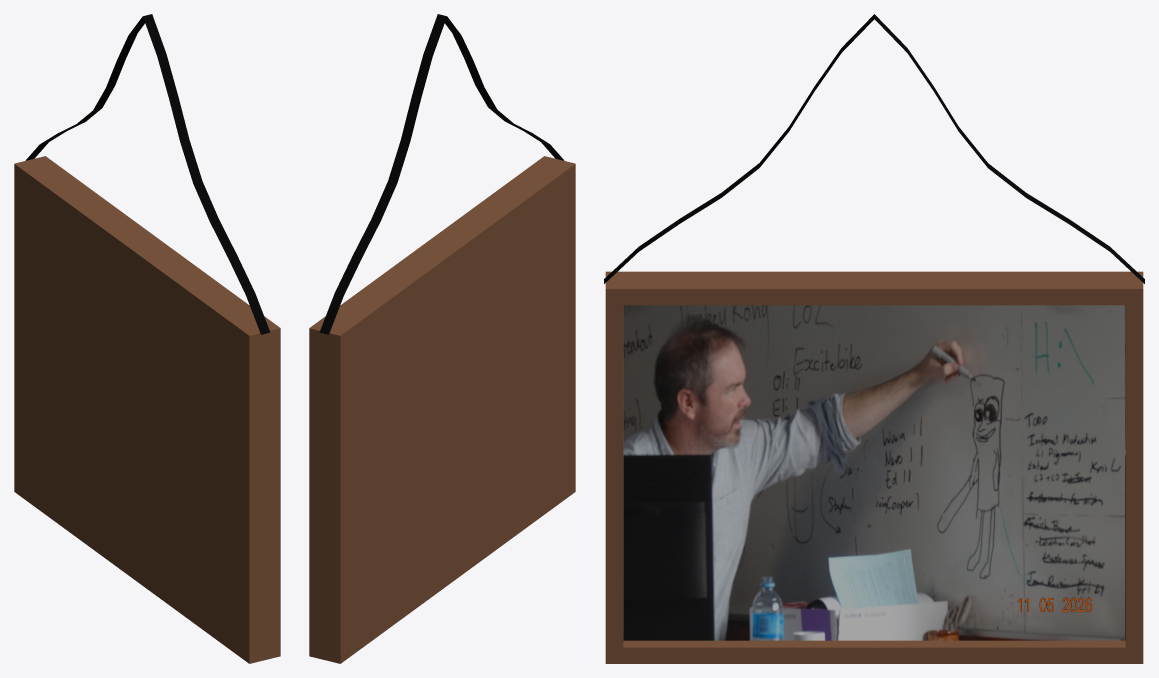
Rendered from paintingSmith.glb.
The picture shows the model from 3 angles, left to right: view 1: azimuth 30°, elevation 25°; view 2: azimuth 150°, elevation 25°; view 3: azimuth 270°, elevation 25°; orthographic projection. The views are drawn at different scales.
Parts seen in each view (by area): view 1: Cube, Plane; view 2: Cube, Plane; view 3: Cube, Plane.
Part boxes in pixels (left/top/right/bottom): Cube: left=14, top=156, right=280, bottom=663; Plane: left=25, top=14, right=270, bottom=334; Cube: left=309, top=156, right=575, bottom=663; Plane: left=319, top=14, right=564, bottom=334; Cube: left=605, top=271, right=1143, bottom=663; Plane: left=604, top=14, right=1144, bottom=283.
Bounding box in the file's own units: 0.2 × 3.41 × 2.61.
Materials: 3 (1 with a texture image).
